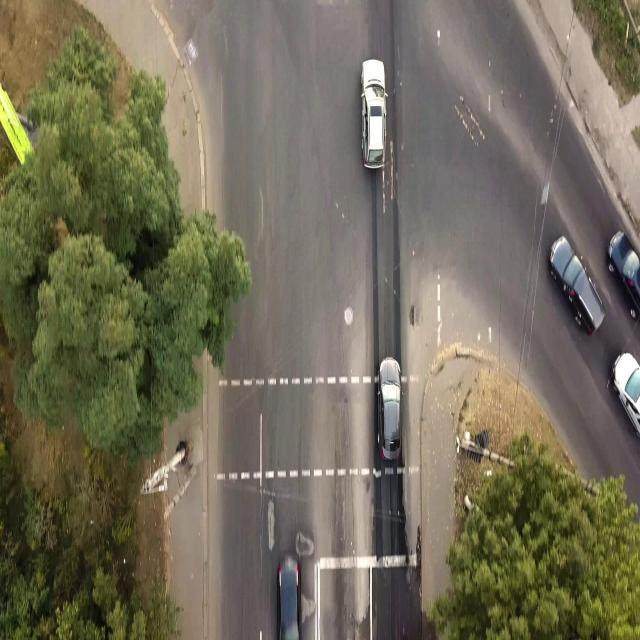Car: (605, 225, 640, 335), (373, 354, 404, 471), (360, 57, 390, 176), (609, 342, 640, 444), (274, 551, 306, 640)
Van: (546, 232, 606, 334)
